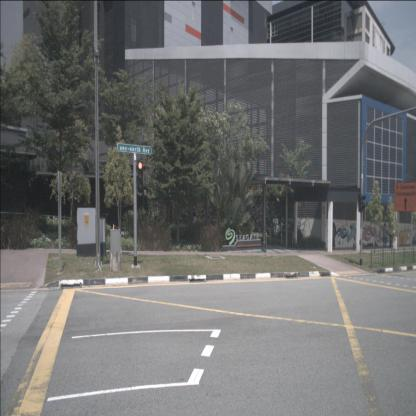human-pedestrian-adult: (382, 223, 388, 248)
